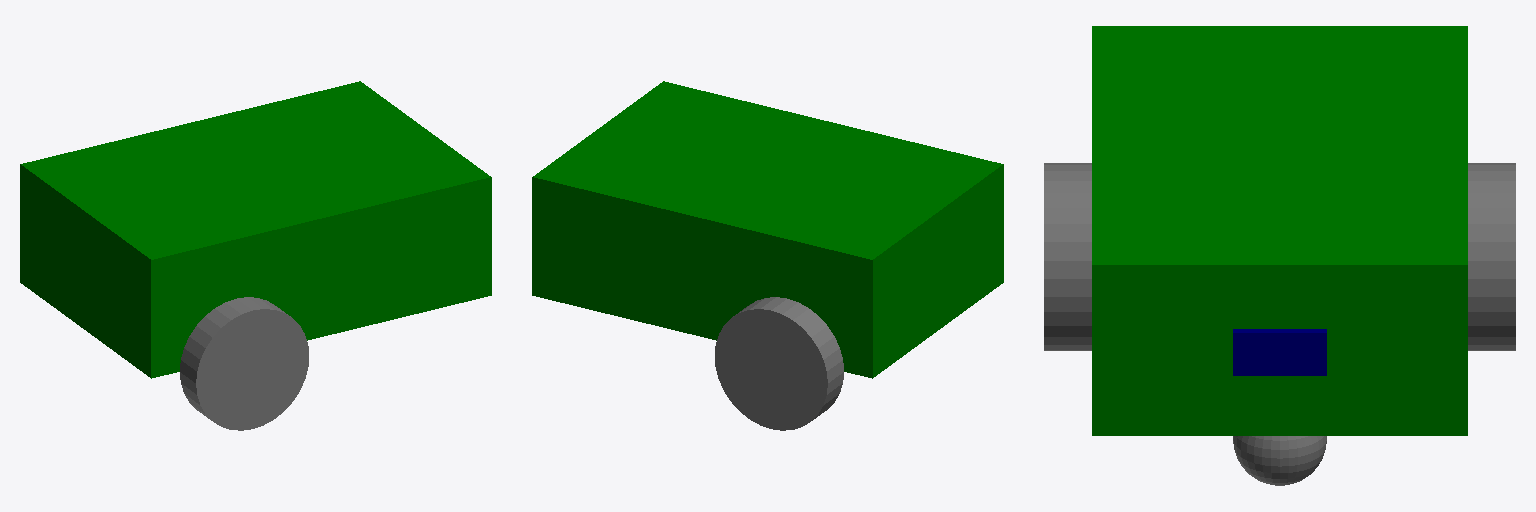
The robot description file, URDF, robot "differential_robot":
<?xml version="1.0" ?>
<!-- =================================================================================== -->
<!-- |    This document was autogenerated by xacro from differential_robot.urdf.xacro  | -->
<!-- |    EDITING THIS FILE BY HAND IS NOT RECOMMENDED                                 | -->
<!-- =================================================================================== -->
<robot name="differential_robot">
  <!-- Robot links section -->
  <link name="base_footprint"/>
  <link name="base_link">
    <inertial>
      <origin rpy="0.0 0.0 0.0" xyz="0.0 0.0 0.1"/>
      <mass value="5.0"/>
      <inertia ixx="0.6666666666666667" ixy="0.0" ixz="0.0" iyy="0.8666666666666667" iyz="0.0" izz="0.3333333333333334"/>
    </inertial>
    <visual>
      <geometry>
        <box size="0.6 0.4 0.2"/>
      </geometry>
      <origin rpy="0.0 0.0 0.0" xyz="0.0 0.0 0.1"/>
      <material name="green">
        <color rgba="0.0 0.5 0.0 1.0"/>
      </material>
    </visual>
  </link>
  <link name="right_wheel_link">
    <inertial>
      <origin rpy="1.5707963267948966 0.0 0.0" xyz="0.0 0.0 0.0"/>
      <mass value="1.0"/>
      <inertia ixx="0.010833333333333335" ixy="0.0" ixz="0.0" iyy="0.010833333333333335" iyz="0.0" izz="0.020000000000000004"/>
    </inertial>
    <visual>
      <geometry>
        <cylinder length="0.05" radius="0.1"/>
      </geometry>
      <origin rpy="1.5707963267948966 0.0 0.0" xyz="0.0 0.0 0.0"/>
      <material name="gray">
        <color rgba="0.5 0.5 0.5 1.0"/>
      </material>
    </visual>
  </link>
  <link name="left_wheel_link">
    <inertial>
      <origin rpy="1.5707963267948966 0.0 0.0" xyz="0.0 0.0 0.0"/>
      <mass value="1.0"/>
      <inertia ixx="0.010833333333333335" ixy="0.0" ixz="0.0" iyy="0.010833333333333335" iyz="0.0" izz="0.020000000000000004"/>
    </inertial>
    <visual>
      <geometry>
        <cylinder length="0.05" radius="0.1"/>
      </geometry>
      <origin rpy="1.5707963267948966 0.0 0.0" xyz="0.0 0.0 0.0"/>
      <material name="gray">
        <color rgba="0.5 0.5 0.5 1.0"/>
      </material>
    </visual>
  </link>
  <!-- <link name="right_wheel_link">
        <visual>
            <geometry>
                <cylinder radius="${wheel_radius}" length="${wheel_lenght}"/>
            </geometry>
            <origin xyz="0.0 0.0 0.0" rpy="${pi/2.0} 0.0 0.0"/>
            <material name="gray"/>
        </visual>
    </link>
    <link name="left_wheel_link">
        <visual>
            <geometry>
                <cylinder radius="${wheel_radius}" length="${wheel_lenght}"/>
            </geometry>
            <origin xyz="0.0 0.0 0.0" rpy="${pi/2.0} 0.0 0.0"/>
            <material name="gray"/>
        </visual>
    </link> -->
  <link name="caster_wheel_link">
    <inertial>
      <origin rpy="0.0 0.0 0.0" xyz="0.0 0.0 0.0"/>
      <mass value="0.5"/>
      <inertia ixx="0.0020000000000000005" ixy="0.0" ixz="0.0" iyy="0.0020000000000000005" iyz="0.0" izz="0.0020000000000000005"/>
    </inertial>
    <visual>
      <geometry>
        <sphere radius="0.05"/>
      </geometry>
      <origin rpy="0.0 0.0 0.0" xyz="0.0 0.0 0.0"/>
      <material name="gray">
        <color rgba="0.5 0.5 0.5 1.0"/>
      </material>
    </visual>
  </link>
  <!-- Robot joints section -->
  <joint name="base_joint" type="fixed">
    <parent link="base_footprint"/>
    <child link="base_link"/>
    <origin rpy="0.0 0.0 0.0" xyz="0.0 0.0 0.1"/>
  </joint>
  <joint name="base_right_wheel_joint" type="continuous">
    <parent link="base_link"/>
    <child link="right_wheel_link"/>
    <axis xyz="0 1 0"/>
    <origin rpy="0 0 0" xyz="-0.15 -0.225  0.0"/>
  </joint>
  <joint name="base_left_wheel_joint" type="continuous">
    <parent link="base_link"/>
    <child link="left_wheel_link"/>
    <axis xyz="0 1 0"/>
    <origin rpy="0 0 0" xyz="-0.15 0.225 0.0"/>
  </joint>
  <joint name="base_caster_wheel_joint" type="fixed">
    <parent link="base_link"/>
    <child link="caster_wheel_link"/>
    <origin rpy="0.0 0.0 0.0" xyz="0.19999999999999998 0.0 -0.05"/>
  </joint>
  
  <link name="camera_link">
    <visual>
      <inertial>
        <origin rpy="0.0 0.0 0.0" xyz="0.0 0.0 0.0"/>
        <mass value="0.1"/>
        <inertia ixx="2.166666666666667e-05" ixy="0.0" ixz="0.0" iyy="8.416666666666668e-05" iyz="0.0" izz="0.00010416666666666669"/>
      </inertial>
      <geometry>
        <box size="0.01 0.1 0.05"/>
      </geometry>
      <origin rpy="0.0 0.0 0.0" xyz="0.0 0.0 0.0"/>
      <material name='blue'>
        <color rgba="0.0 0.0 0.5 1.0"/>
      </material>
    </visual>
  </link>
  <!-- generate an optical frame 
      http://www.ros.org/reps/rep-0103.html#suffix-frames
      so that ros and opencv can operate on the camera frame correctly 
      -->
  <link name="camera_optical_link"/>
  <joint name="camera_optical_joint" type="fixed">
    <!-- these values have to be these values otherwise the gazebo camera
            image won't be aligned properly with the frame it is supposedly
            originating from -->
    <origin rpy="-1.5707963267948966 0 -1.5707963267948966" xyz="0 0 0"/>
    <parent link="camera_link"/>
    <child link="camera_optical_link"/>
  </joint>
  <joint name="base_camera_joint" type="fixed">
    <parent link="base_link"/>
    <child link="camera_link"/>
    <origin rpy="0.0 0.0 0.0" xyz="0.305 0.0 0.1"/>
  </joint>
</robot>

--- Facts derived from the render (not from the file) ---
3 views of the same robot in one strip: view 1: azimuth 30°, elevation 25°; view 2: azimuth 150°, elevation 25°; view 3: azimuth 270°, elevation 25° (orthographic).
Model differential_robot with 7 links and 6 joints (2 continuous, 4 fixed), rooted at base_footprint, posed every joint at zero.
Links seen in each view (by area): view 1: base_link, right_wheel_link; view 2: base_link, left_wheel_link; view 3: base_link, right_wheel_link, left_wheel_link, camera_link, caster_wheel_link.
Link boxes in pixels (x1,y1,x2,y2): base_link: (20, 81, 491, 378); right_wheel_link: (180, 297, 308, 430); base_link: (532, 81, 1003, 378); left_wheel_link: (715, 297, 843, 430); base_link: (1092, 26, 1467, 435); right_wheel_link: (1044, 163, 1091, 350); left_wheel_link: (1468, 163, 1515, 350); camera_link: (1233, 329, 1326, 375); caster_wheel_link: (1233, 436, 1326, 485).
Bounding box of the posed robot: 0.61 × 0.5 × 0.3 m (x, y, z).
Geometry: primitives only (box / cylinder / sphere), no mesh files.